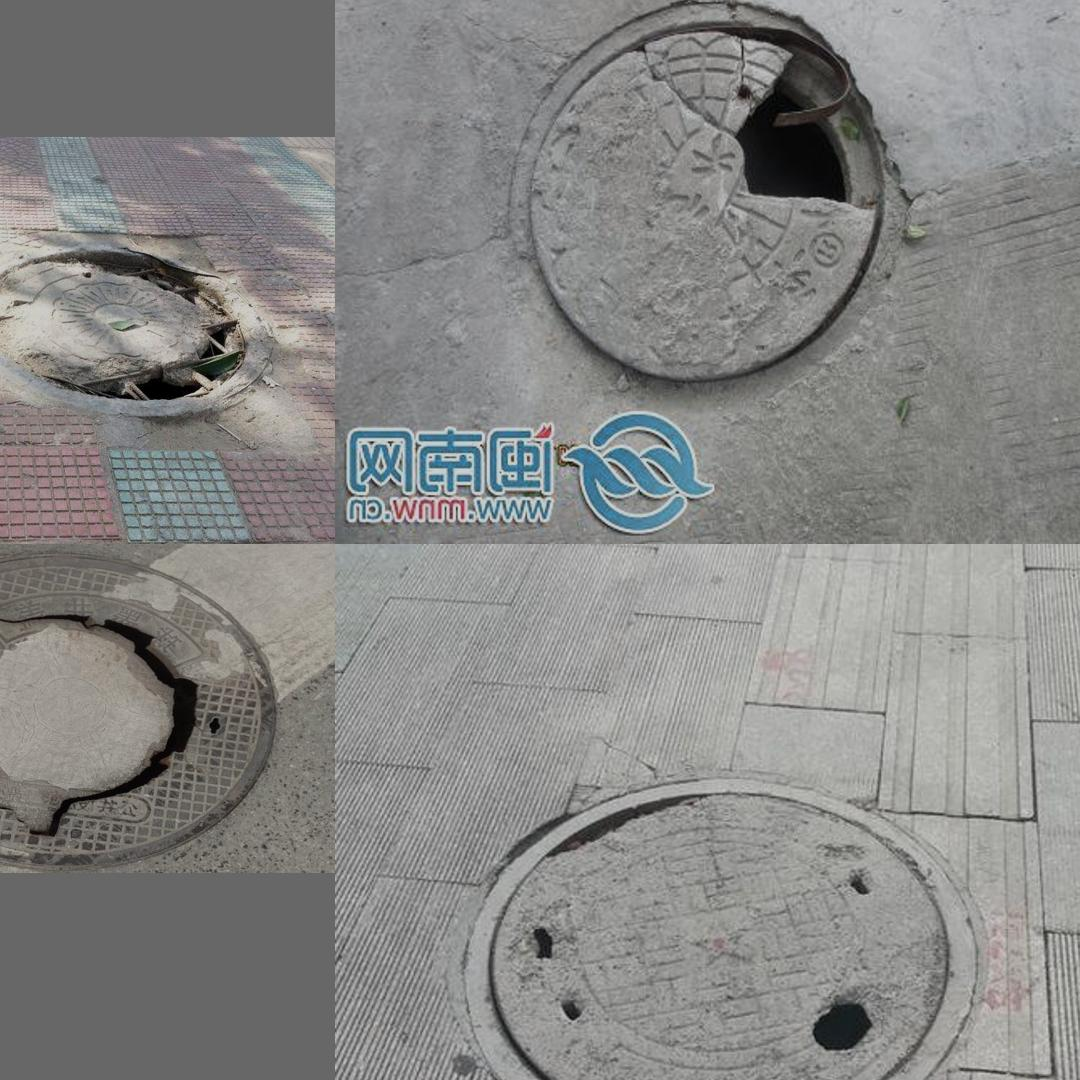broke: (425, 734, 1011, 1080), (504, 0, 928, 404), (0, 549, 286, 869), (0, 247, 262, 405)
